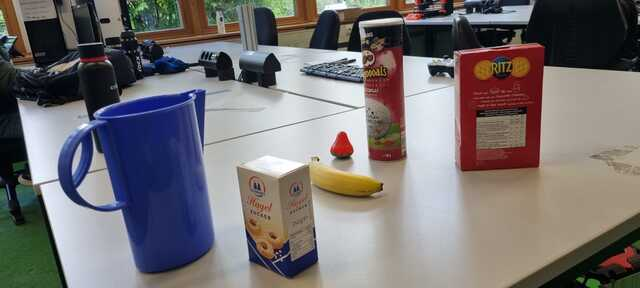001_chips_can: (356, 16, 410, 161)
003_cracker_box: (450, 42, 546, 176)
004_sugar_box: (238, 155, 318, 277)
011_banana: (304, 158, 387, 201)
012_strawberry: (330, 131, 354, 160)
019_pitcher_base: (58, 89, 218, 275)
